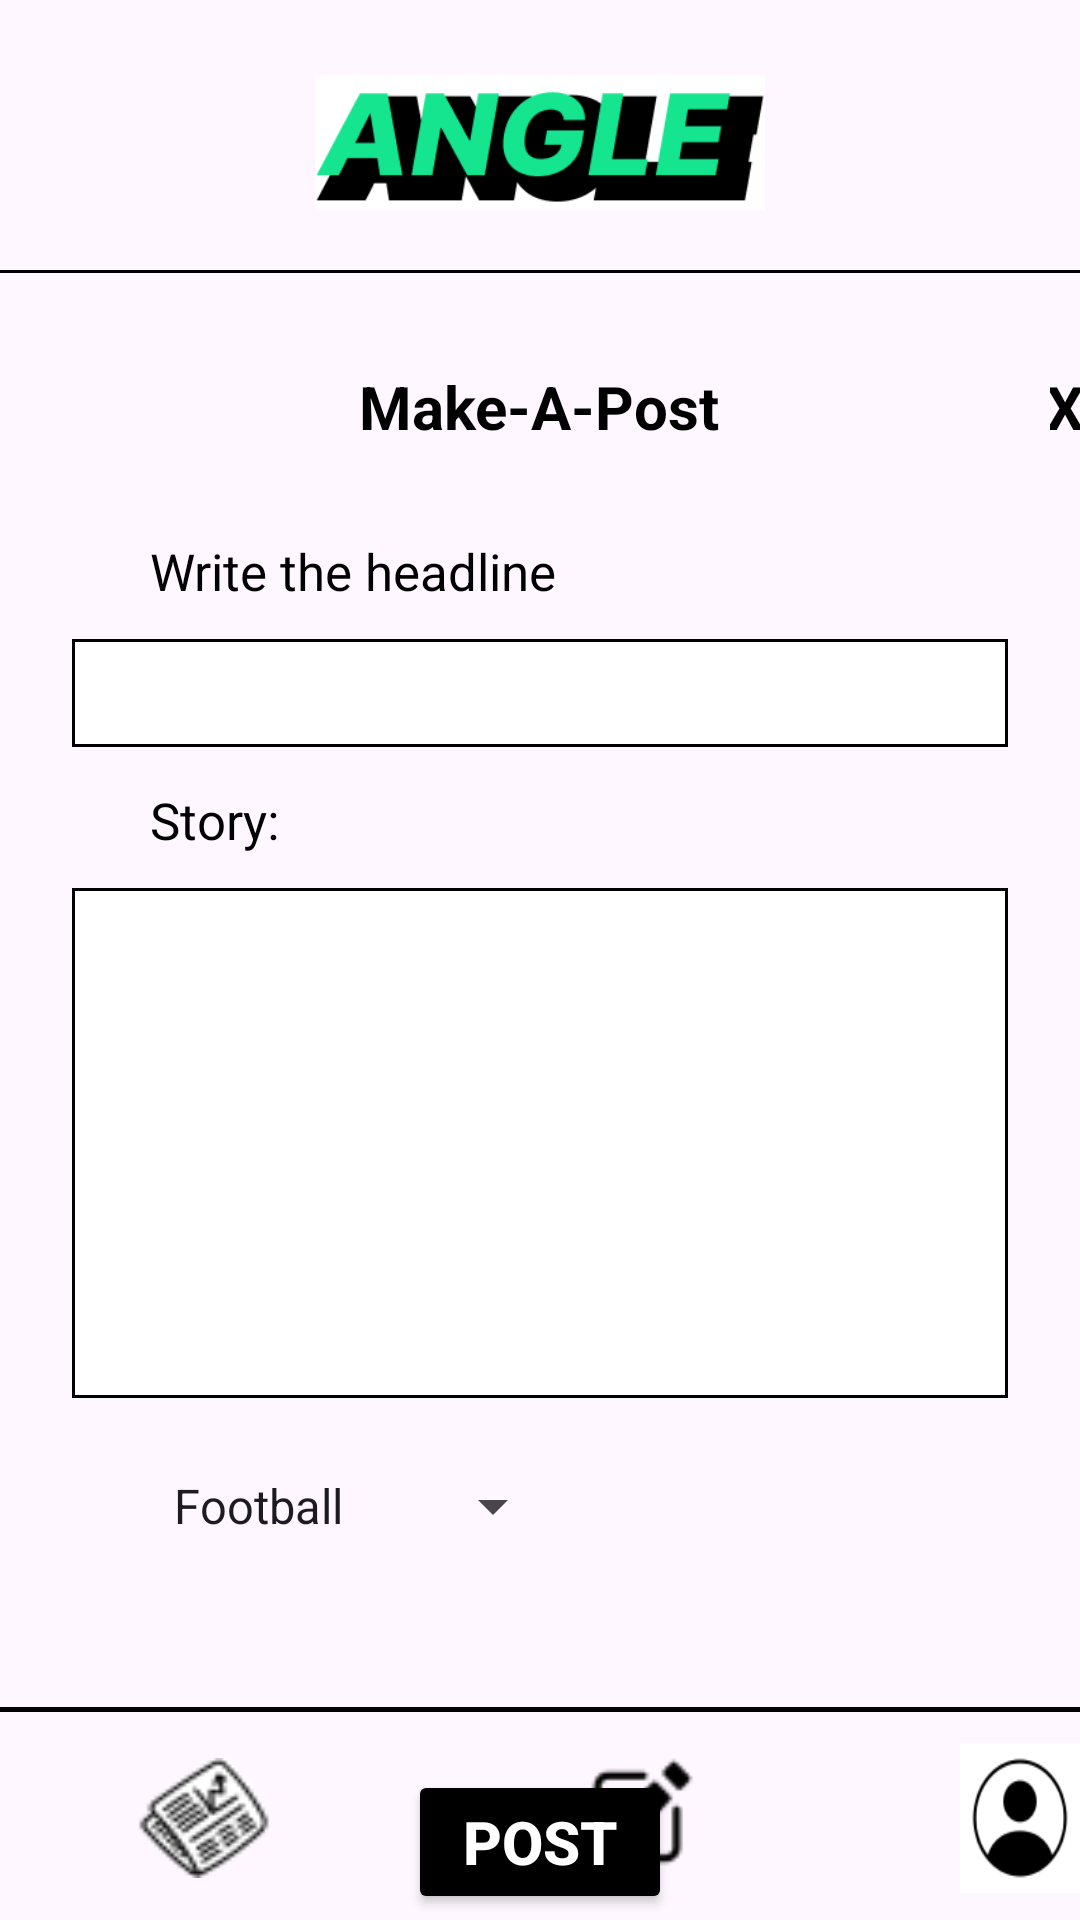

Where icons sit on this 1080×1920 app screen, as (x1, y1, x2, y2):
news: (139, 1758, 269, 1878)
profile: (972, 1758, 1068, 1878)
